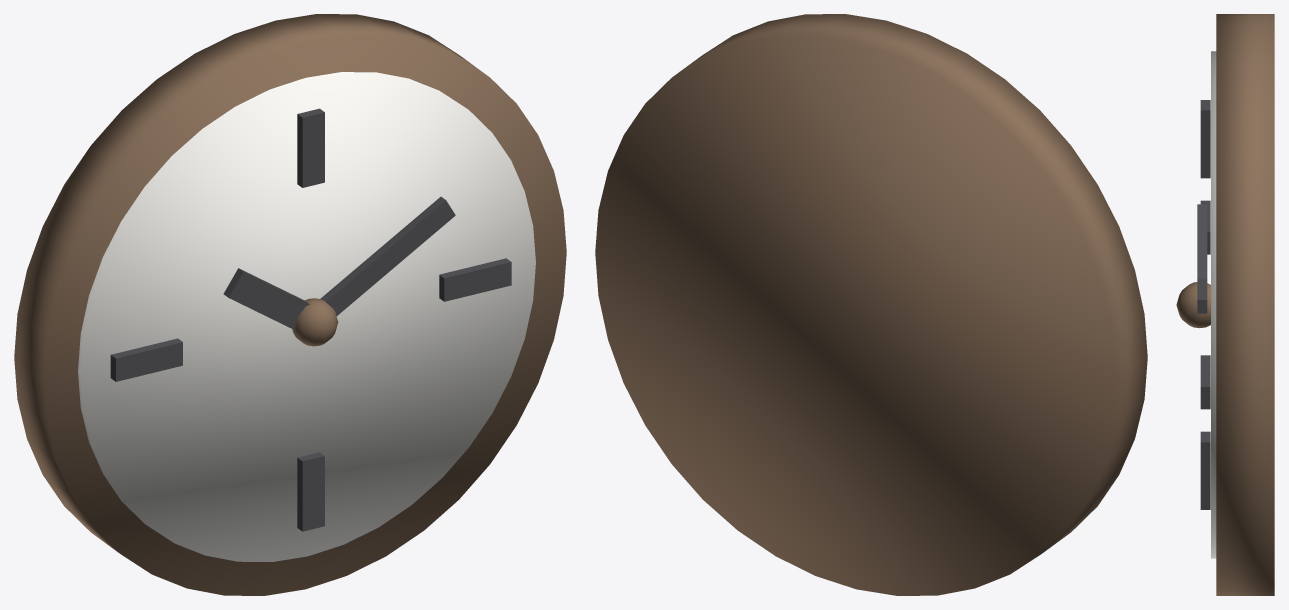
File: wall_clock.glb
The picture shows the model from 3 angles, left to right: view 1: azimuth 30°, elevation 25°; view 2: azimuth 150°, elevation 25°; view 3: azimuth 270°, elevation 25°; orthographic projection. The views are drawn at different scales.
Parts seen in each view (by area): view 1: Face, Rim, MinHand, HourHand, Tick0, Tick2, Tick3, Tick1, Hub; view 2: Rim; view 3: Rim, Face, Hub, Tick0, Tick2, HourHand, Tick1, MinHand, Tick3.
Boxes of the visible parts, x1,y1,x2,y2 form: Face: (78,72,535,561); Rim: (14,14,566,595); MinHand: (320,196,455,315); HourHand: (223,268,309,330); Tick0: (297,108,324,187); Tick2: (297,452,324,531); Tick3: (110,338,182,381); Tick1: (439,258,511,301); Hub: (292,298,338,346); Rim: (595,14,1147,595); Rim: (1216,14,1274,595); Face: (1211,51,1216,558); Hub: (1176,282,1210,328); Tick0: (1200,100,1210,178); Tick2: (1200,431,1210,509); HourHand: (1197,204,1207,278); Tick1: (1200,355,1210,409); MinHand: (1197,278,1207,313); Tick3: (1200,200,1210,254).
Bounding box in the file's own units: 0.7 × 0.7 × 0.118.
